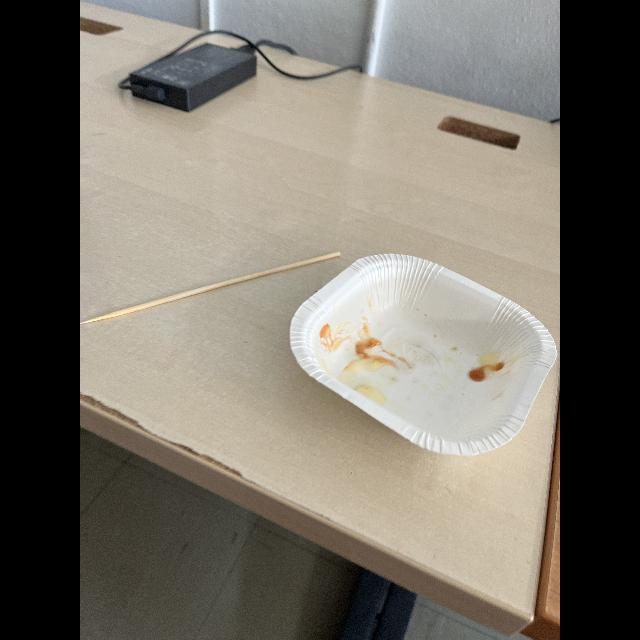cardboard_bowl: (286, 248, 560, 456)
stick: (80, 248, 344, 328)
